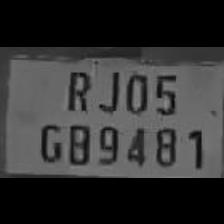0: (122, 67, 150, 113)
1: (181, 123, 208, 167)
4: (122, 120, 148, 164)
5: (151, 69, 179, 115)
8: (151, 120, 179, 166)
9: (92, 122, 119, 162)
B: (64, 120, 92, 164)
G: (36, 118, 64, 162)
J: (94, 64, 122, 112)
R: (63, 65, 93, 111)
